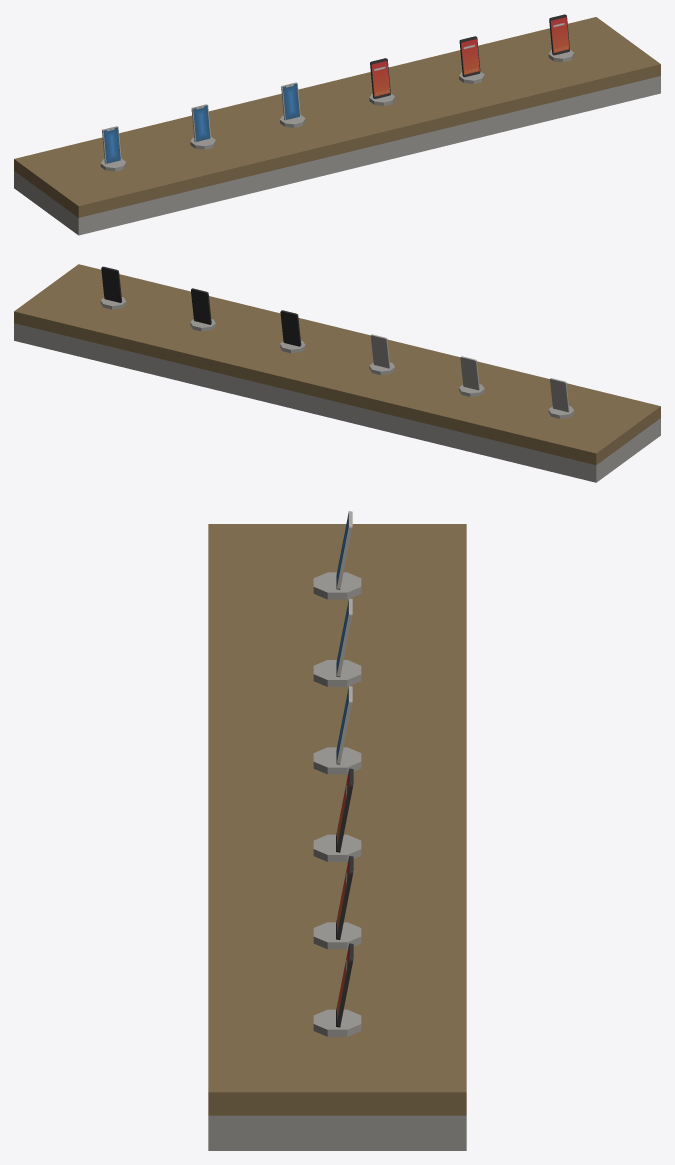
File: SM_Props_Interior_Shop_Electronic_Preset_Desk_Wall_Mobile.fbx
The picture shows the model from 3 angles, top to bottom: view 1: azimuth 30°, elevation 25°; view 2: azimuth 150°, elevation 25°; view 3: azimuth 270°, elevation 25°; orthographic projection. The views are drawn at different scales.
Visible parts, largest first — view 1: SM_Props_Interior_Shop_Electronic_Preset_Desk_Wall_Mobile; view 2: SM_Props_Interior_Shop_Electronic_Preset_Desk_Wall_Mobile; view 3: SM_Props_Interior_Shop_Electronic_Preset_Desk_Wall_Mobile.
Part boxes in pixels (x1,y1,x2,y2): SM_Props_Interior_Shop_Electronic_Preset_Desk_Wall_Mobile: (14,14,660,235); SM_Props_Interior_Shop_Electronic_Preset_Desk_Wall_Mobile: (14,264,660,482); SM_Props_Interior_Shop_Electronic_Preset_Desk_Wall_Mobile: (208,511,466,1150).
Size of the model in its own units: 260 by 28.77 by 50.
